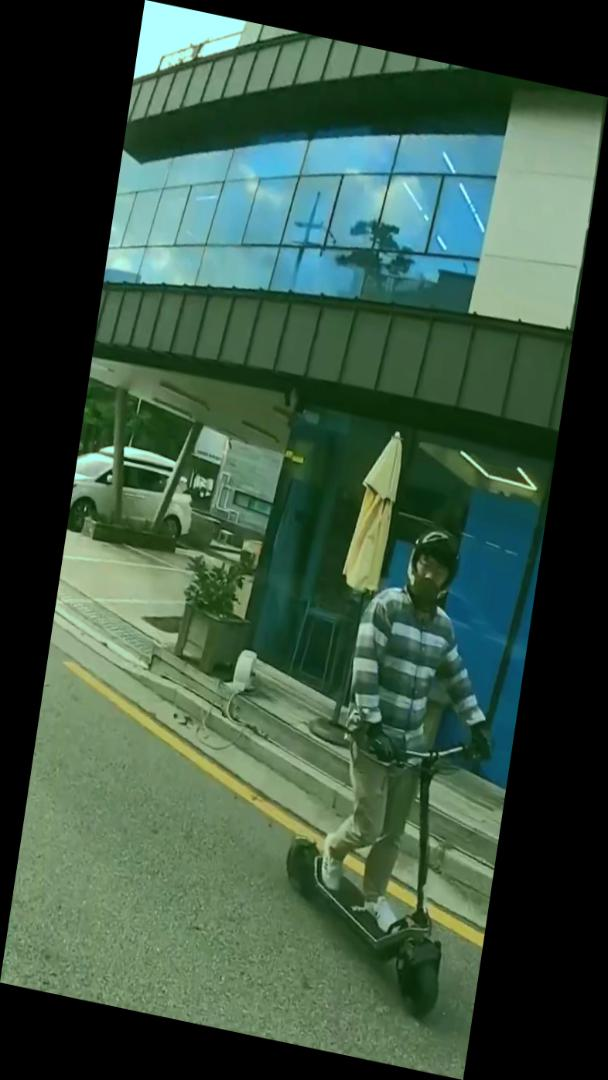helmet: (263, 504, 528, 1031)
